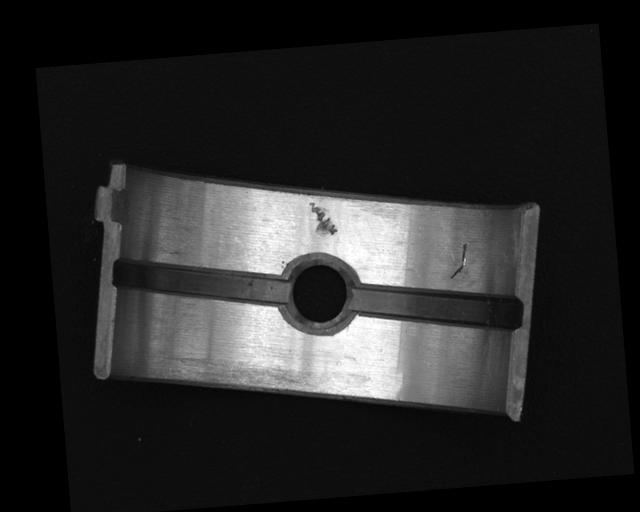bruise: (308, 200, 337, 238)
gap: (111, 247, 289, 317), (349, 274, 522, 342)
hole: (279, 254, 359, 335)
nick: (447, 242, 470, 279)
scratch: (168, 345, 318, 403)
